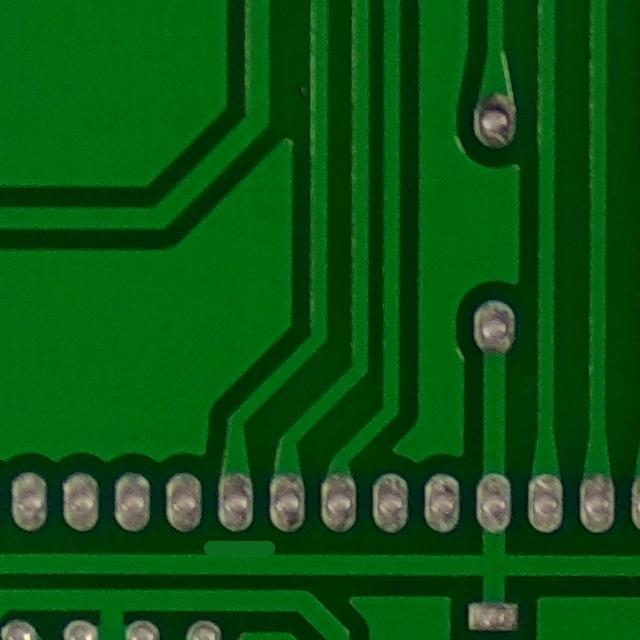spur: (191, 524, 291, 572)
